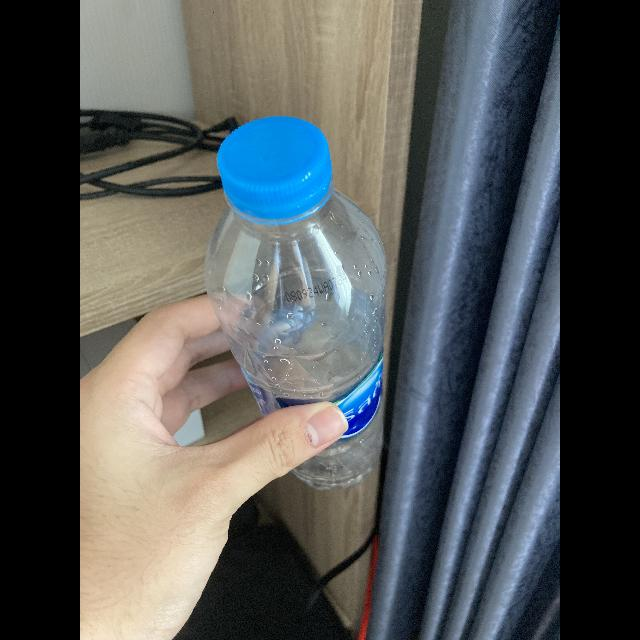plastic_bottle: (206, 112, 394, 494)
plastic_bottle_cap: (218, 115, 336, 222)
